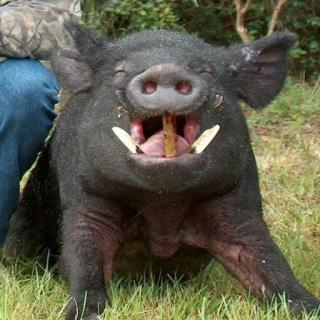Pig: (31, 7, 320, 320)
